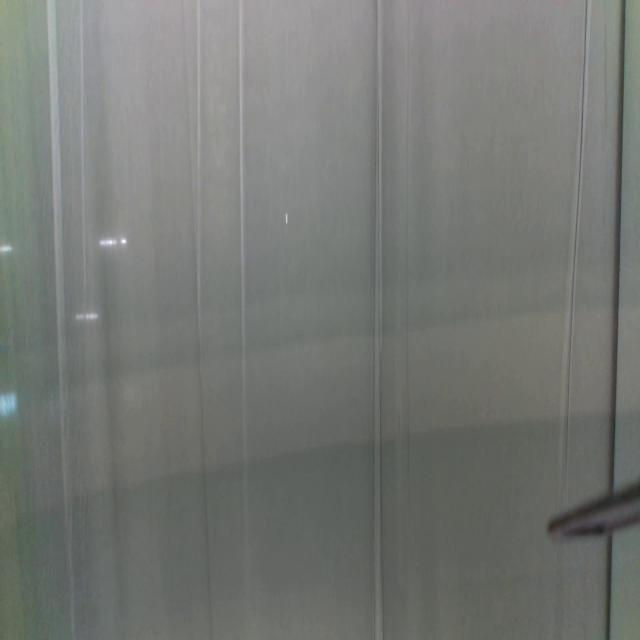color bleeding: (11, 259, 547, 517)
crease: (45, 0, 76, 640), (561, 0, 591, 490), (237, 0, 251, 631), (609, 0, 627, 487), (372, 0, 384, 639), (198, 366, 213, 640), (404, 0, 412, 479), (78, 0, 90, 313), (194, 0, 204, 323), (602, 535, 614, 640)
hole: (284, 209, 290, 227)
